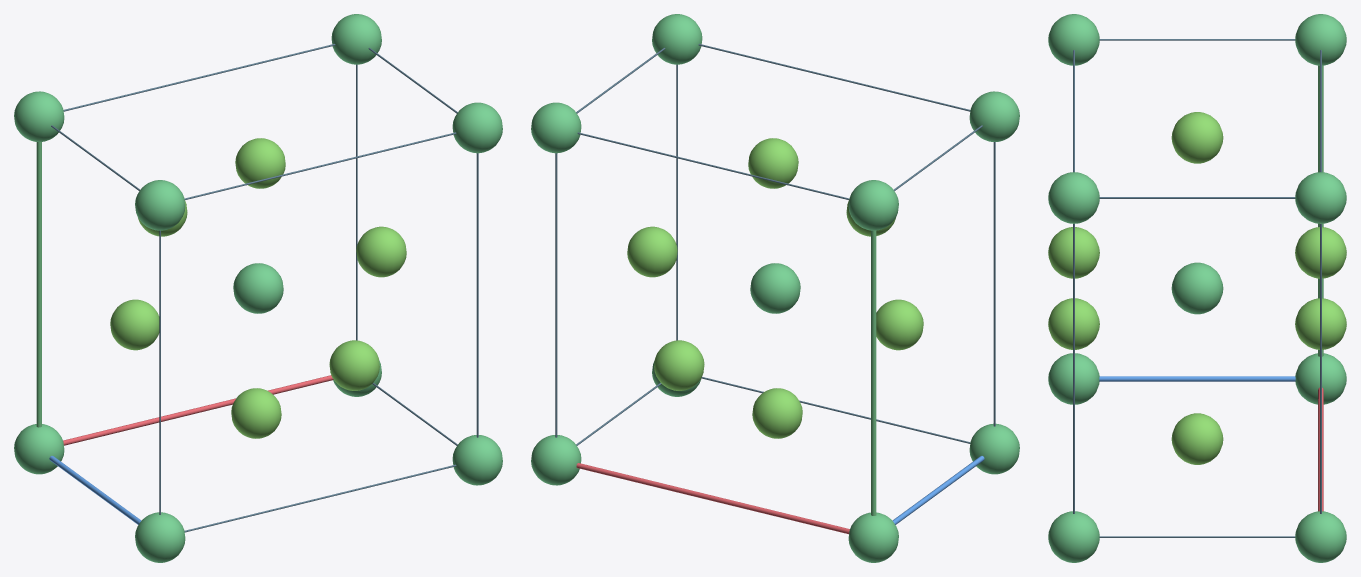
Rendered from chat-sellaite.glb.
The picture shows the model from 3 angles, left to right: view 1: azimuth 30°, elevation 25°; view 2: azimuth 150°, elevation 25°; view 3: azimuth 270°, elevation 25°; orthographic projection. The views are drawn at different scales.
Visible parts, largest first — view 1: Mg · Mg · 1 (×8), F · F · 1 (×5), Ô mạng và các trục a, b, c; view 2: Mg · Mg · 1 (×8), F · F · 1 (×5), Ô mạng và các trục a, b, c; view 3: Mg · Mg · 1 (×9), F · F · 1 (×6), Ô mạng và các trục a, b, c.
Part boxes in pixels (bbox=[...]): Mg · Mg · 1 (×8): bbox=[14, 14, 502, 562]; F · F · 1 (×5): bbox=[110, 138, 406, 438]; Ô mạng và các trục a, b, c: bbox=[36, 44, 478, 532]; Mg · Mg · 1 (×8): bbox=[531, 14, 1019, 562]; F · F · 1 (×5): bbox=[627, 138, 923, 438]; Ô mạng và các trục a, b, c: bbox=[555, 44, 995, 534]; Mg · Mg · 1 (×9): bbox=[1048, 14, 1346, 562]; F · F · 1 (×6): bbox=[1048, 112, 1346, 464]; Ô mạng và các trục a, b, c: bbox=[1073, 39, 1323, 537].
Size of the model in its own units: 5.26 by 5.26 by 3.69.
